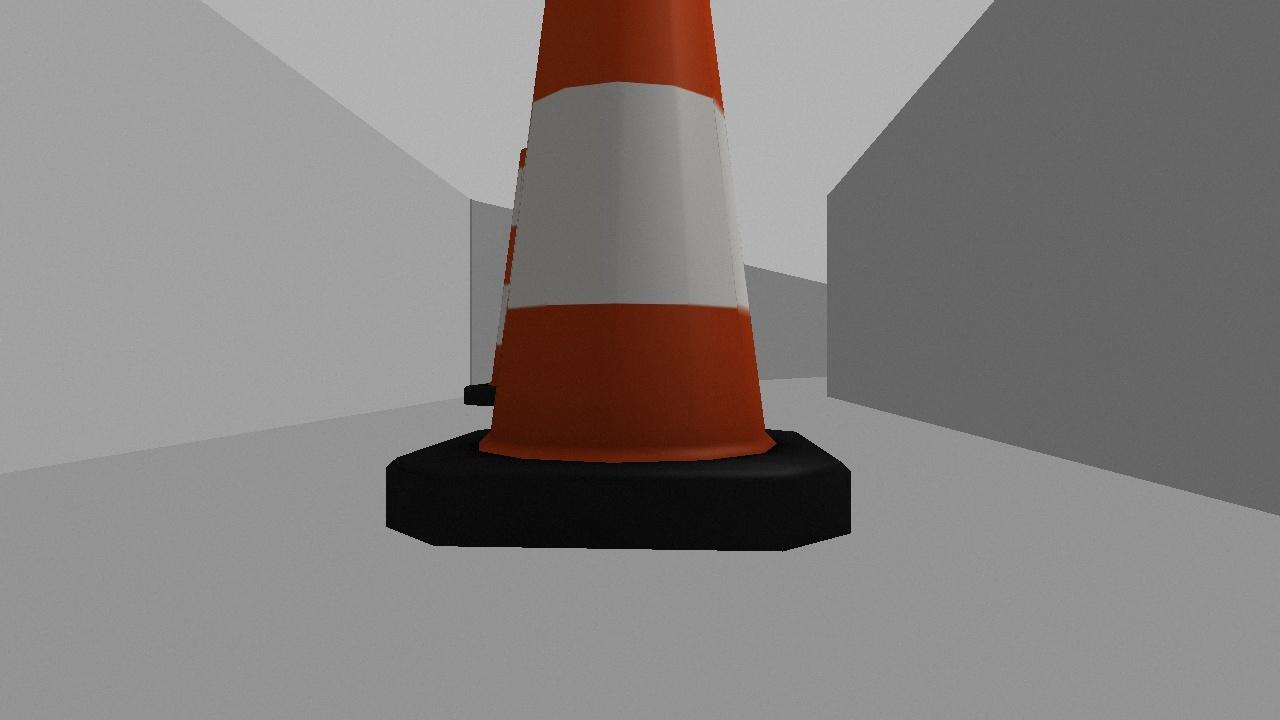cone_barrel: (361, 0, 892, 579)
